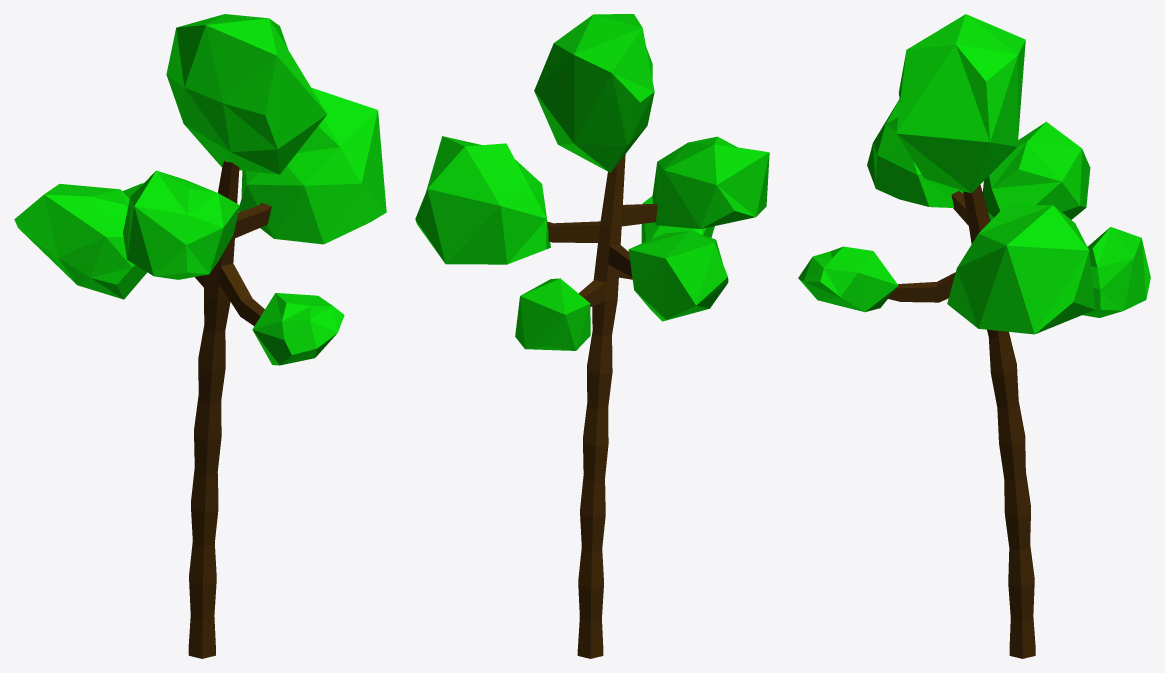
Rendered from Drzewo III.FBX.
3 renders of one model, left to right at view 1: azimuth 30°, elevation 25°; view 2: azimuth 150°, elevation 25°; view 3: azimuth 270°, elevation 25°, orthographic. The views are drawn at different scales.
Visible parts, largest first — view 1: GeoSphere009, GeoSphere008, Cylinder004, GeoSphere010, GeoSphere011, GeoSphere012; view 2: Cylinder004, GeoSphere009, GeoSphere008, GeoSphere010, GeoSphere011, GeoSphere007, GeoSphere012; view 3: GeoSphere009, GeoSphere008, Cylinder004, GeoSphere011, GeoSphere012, GeoSphere007, GeoSphere010.
Part boxes in pixels (x1,y1,x2,y2): GeoSphere009: (166,14,327,174); GeoSphere008: (239,87,386,244); Cylinder004: (188,161,271,658); GeoSphere010: (123,170,239,279); GeoSphere011: (14,183,146,299); GeoSphere012: (252,293,344,365); Cylinder004: (547,154,657,658); GeoSphere009: (534,14,654,172); GeoSphere008: (415,136,550,264); GeoSphere010: (652,136,769,229); GeoSphere011: (628,231,728,321); GeoSphere007: (515,278,590,350); GeoSphere012: (641,196,714,243); GeoSphere009: (896,14,1025,193); GeoSphere008: (947,205,1095,334); Cylinder004: (887,184,1035,658); GeoSphere011: (982,121,1090,220); GeoSphere012: (798,246,898,312); GeoSphere007: (1082,227,1150,317); GeoSphere010: (867,99,963,207).
Bounding box in the file's own units: 43.49 × 78.27 × 39.96.
